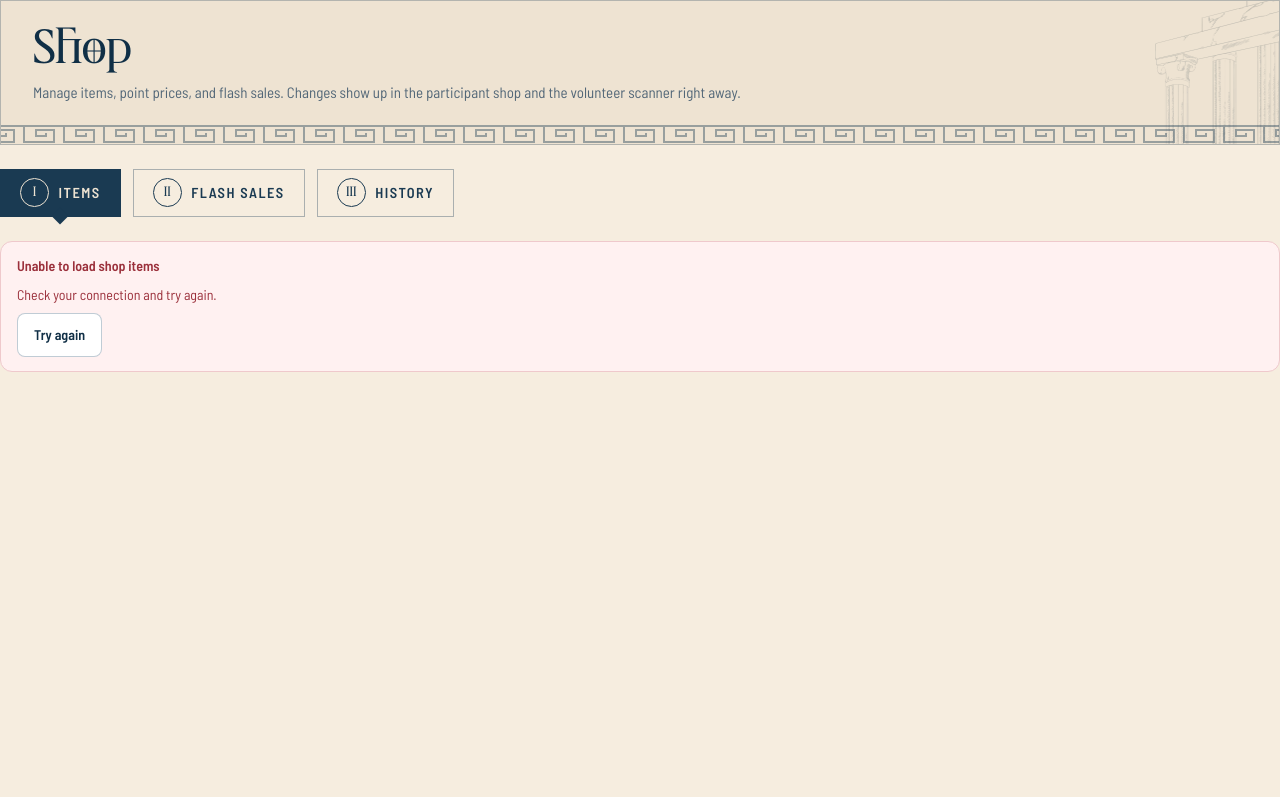
Scenario: ShopPage › shows a retryable error when a section fails to load
Click the button "Try again". click: (60, 336)
box: top-left (17, 314), bottom-right (102, 358)
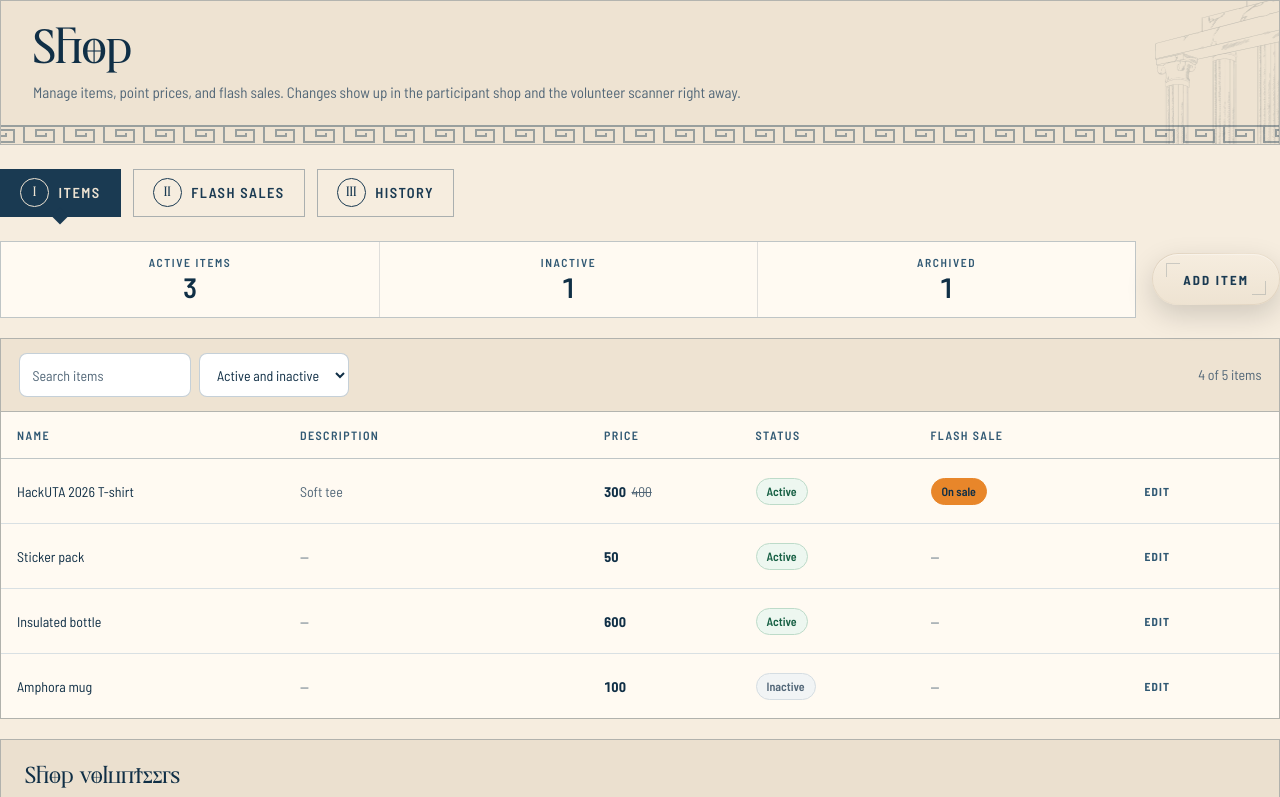
Expected: the text "HackUTA 2026 T-shirt" is shown, top-left (1, 459), bottom-right (284, 524)
